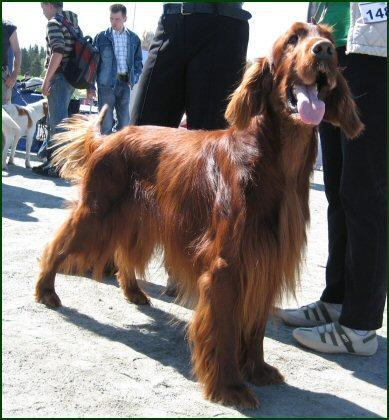Irish_setter: (31, 12, 354, 412)
